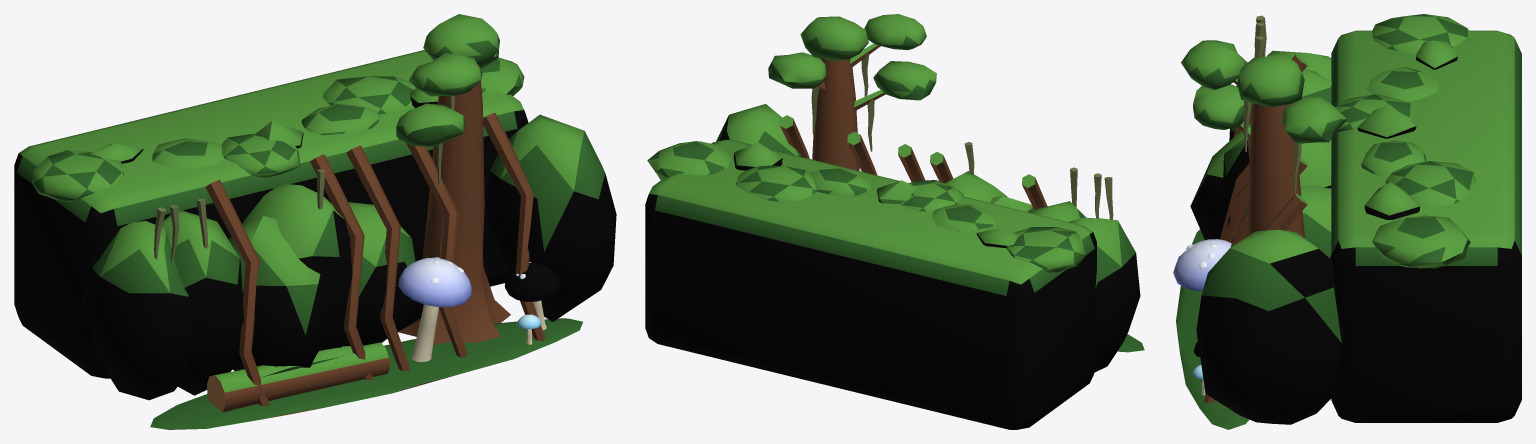
The model's file is SwampBankC.fbx.
3 renders of one model, left to right at view 1: azimuth 30°, elevation 25°; view 2: azimuth 150°, elevation 25°; view 3: azimuth 270°, elevation 25°, orthographic. The views are drawn at different scales.
Visible parts, largest first — view 1: SwampBankC; view 2: SwampBankC; view 3: SwampBankC.
Part boxes in pixels (x1,y1,x2,y2): SwampBankC: [14, 14, 616, 429]; SwampBankC: [645, 14, 1144, 429]; SwampBankC: [1173, 14, 1521, 429].
Size of the model in its own units: 8.5 by 5.18 by 5.03.
Materials: 2 (2 with a texture image).
